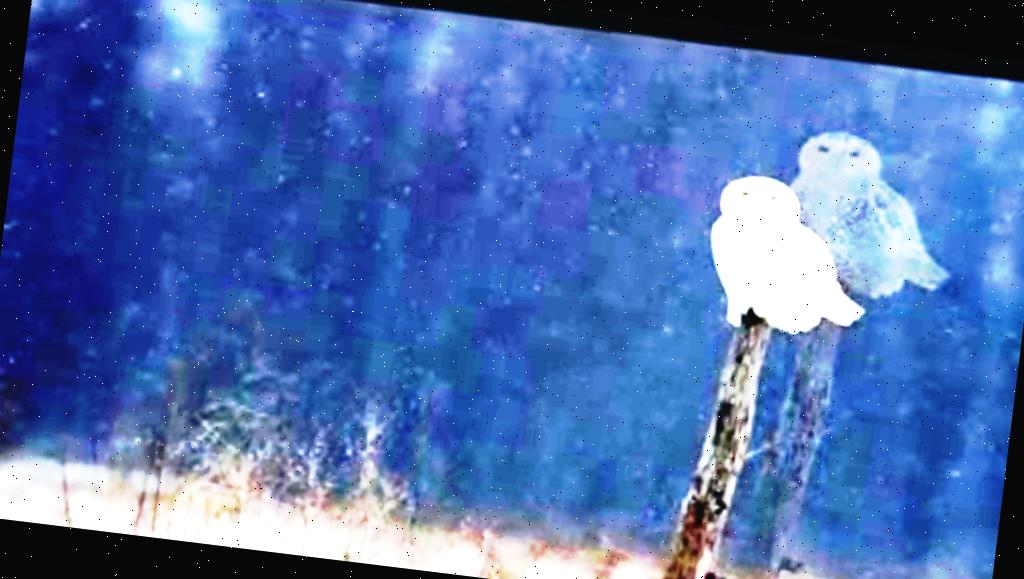Owl: (780, 126, 961, 298), (692, 177, 876, 346)
